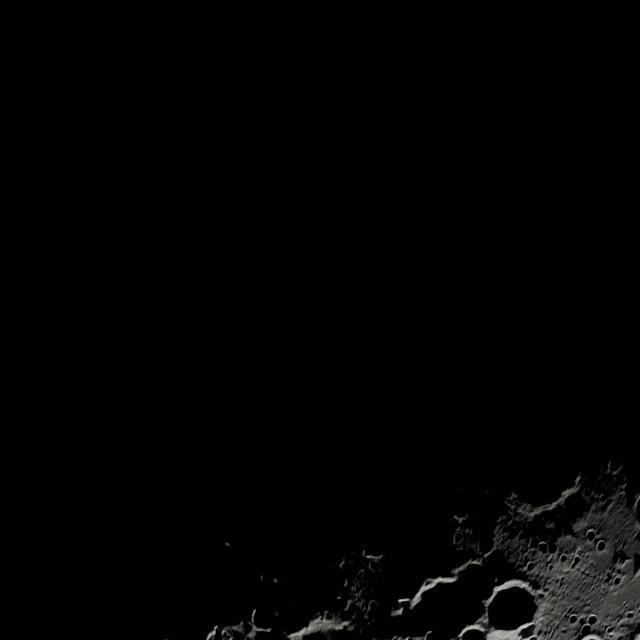crater: (482, 578, 538, 631), (452, 532, 465, 546), (585, 528, 597, 542), (536, 542, 550, 554), (594, 539, 606, 552), (570, 555, 581, 569), (525, 560, 536, 573), (587, 614, 598, 626), (558, 553, 570, 564), (568, 614, 579, 625), (605, 626, 616, 636), (612, 575, 622, 586), (546, 562, 556, 572), (626, 612, 634, 620)
rock: (248, 606, 280, 634), (523, 574, 543, 591), (365, 600, 379, 617), (466, 557, 484, 570), (343, 601, 358, 615), (601, 497, 615, 512), (614, 555, 628, 570), (602, 572, 614, 585), (338, 556, 349, 570), (563, 608, 575, 620), (368, 560, 380, 572), (224, 633, 244, 640), (342, 577, 350, 589), (422, 634, 436, 640), (492, 576, 500, 585), (337, 594, 344, 602), (273, 610, 279, 618), (559, 628, 567, 634), (623, 600, 629, 608), (272, 577, 278, 584), (260, 574, 264, 582)
